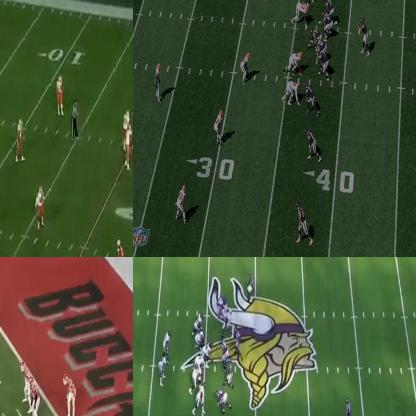CENTER: (203, 340, 212, 365), (312, 28, 323, 46)
DB: (62, 372, 76, 415), (14, 119, 24, 161), (174, 184, 186, 219), (215, 110, 225, 143), (55, 78, 65, 109), (35, 189, 45, 220), (157, 64, 162, 102), (247, 274, 254, 298), (344, 397, 351, 415)
LB: (30, 378, 41, 415), (21, 356, 28, 404), (239, 51, 250, 81), (234, 327, 244, 356), (221, 311, 230, 331), (124, 110, 131, 124)
QB: (359, 16, 370, 57), (162, 331, 172, 361)
SKILL: (297, 203, 310, 243), (308, 126, 321, 160), (306, 82, 317, 113), (194, 383, 205, 414), (158, 356, 167, 384), (115, 237, 127, 256)
